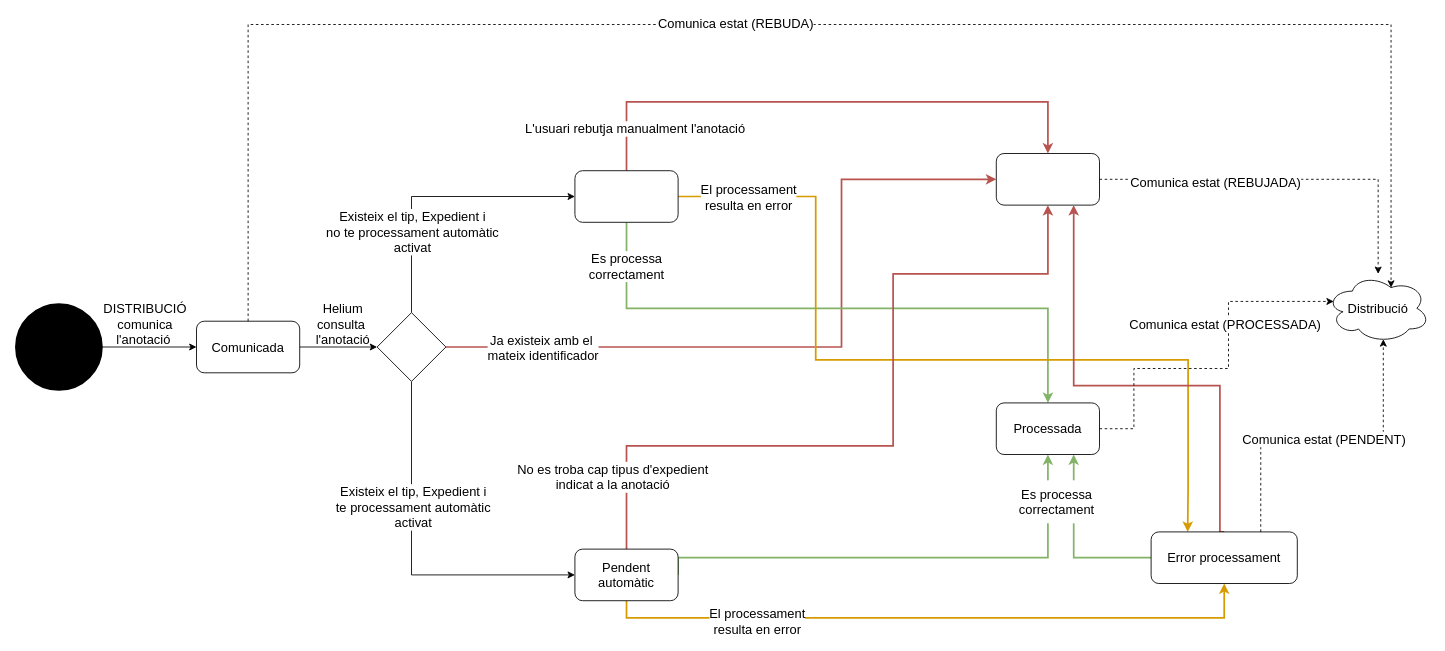
The diagram is 1445 pixels wide and 651 high, and some of its shapes have lost their labels. The shapes that lost their labels are listed below. From the top down, each one's box as (x1, y1, x2, y2) in pixels, then its label:
(574, 170, 678, 222): Pendent
(995, 153, 1100, 205): Rebutjada
(15, 303, 102, 390): Anotació
